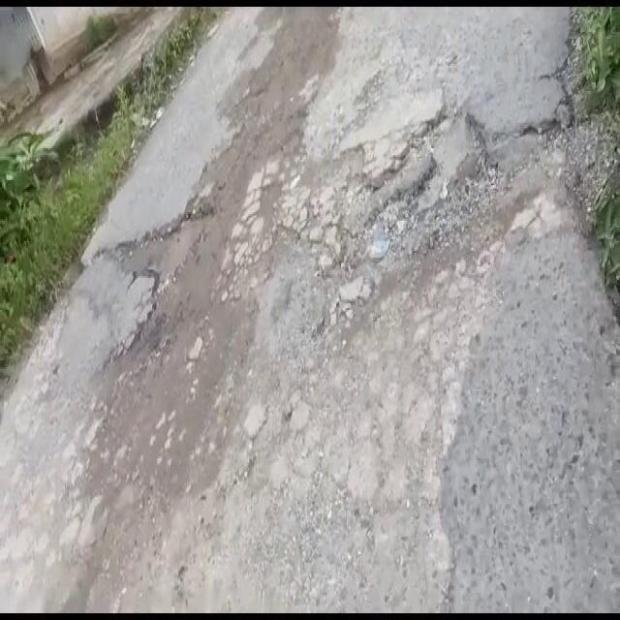lubang: (126, 153, 565, 329)
